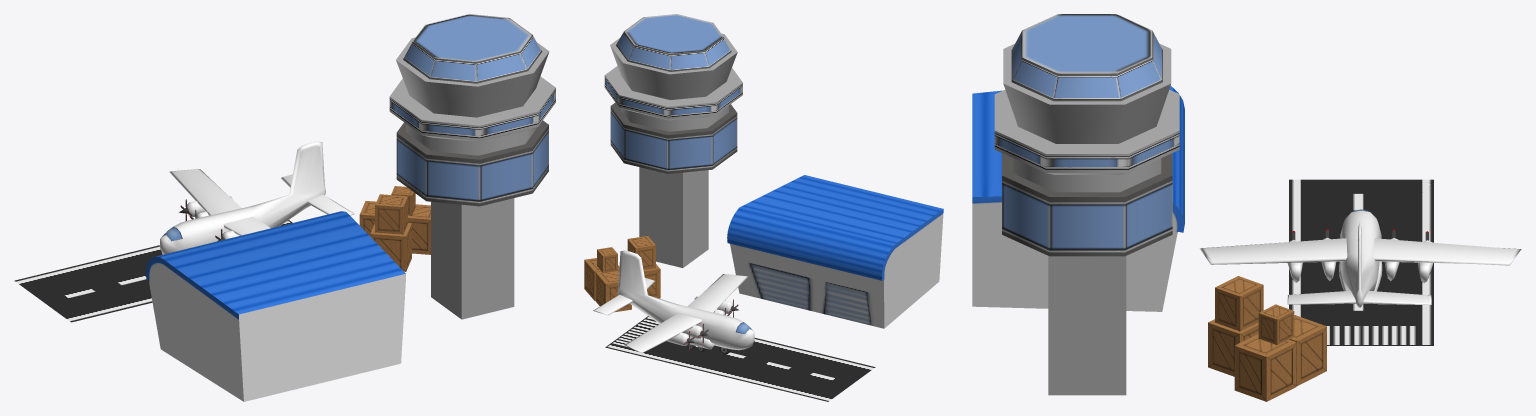
File: CargoAirport.FBX
3 views of the same model, side by side, from view 1: azimuth 30°, elevation 25°; view 2: azimuth 150°, elevation 25°; view 3: azimuth 270°, elevation 25° (orthographic). The views are drawn at different scales.
Visible parts, largest first — view 1: Plane001; view 2: Plane001; view 3: Plane001.
Part boxes in pixels (bbox=[...]): Plane001: bbox=[14, 14, 555, 401]; Plane001: bbox=[584, 14, 943, 401]; Plane001: bbox=[972, 14, 1521, 401].
Bounding box in the file's own units: 99.25 × 64.37 × 95.55.
